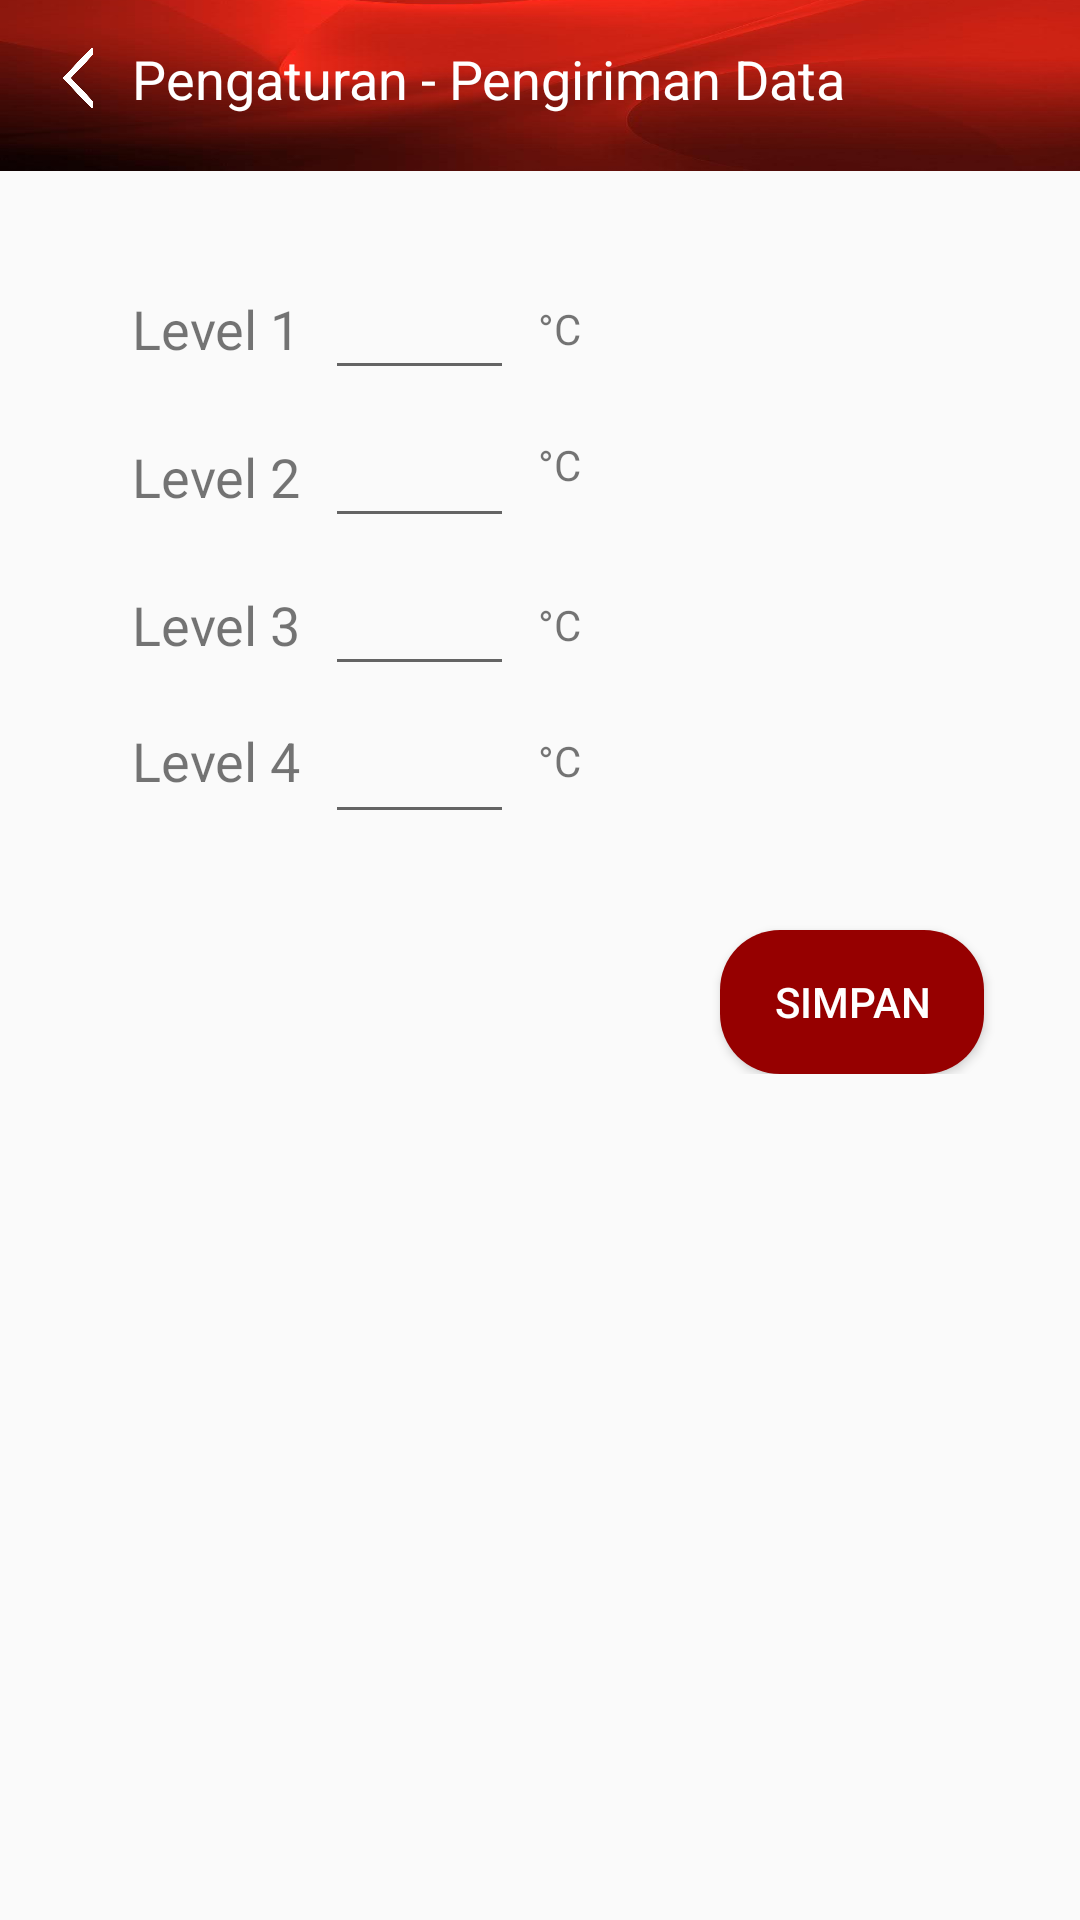

Icons on this 1080w x 1920h Android screen, each with the point to tap as (x=x, y=y):
previous: (x=78, y=78)
